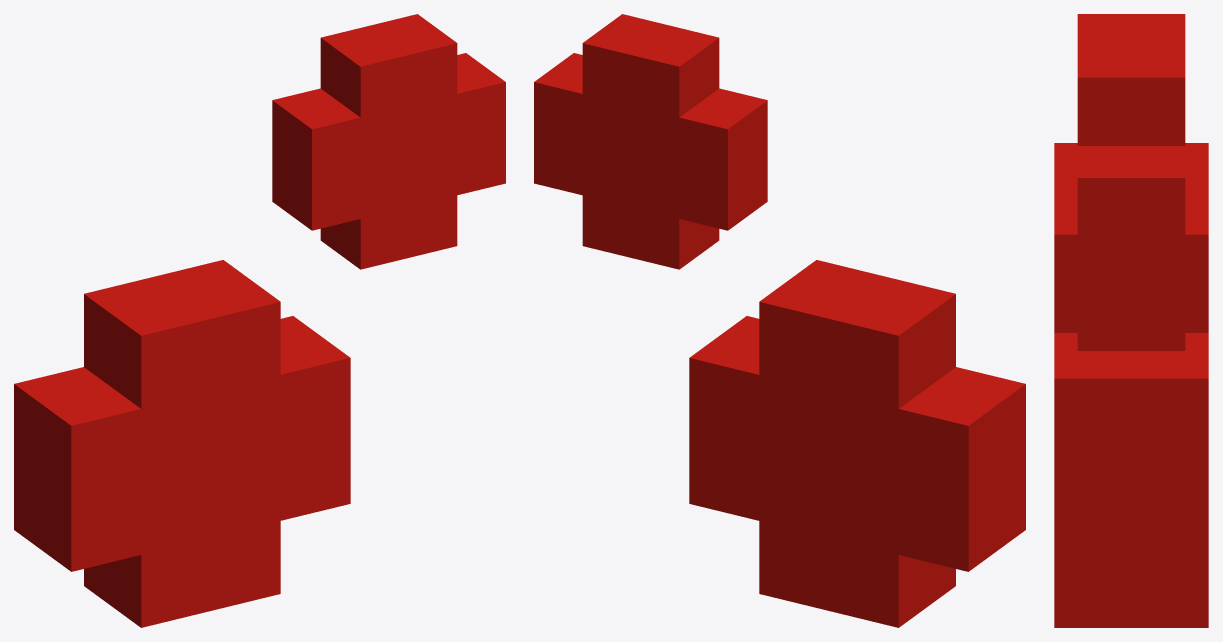
Rendered from health.glb.
3 renders of one model, left to right at view 1: azimuth 30°, elevation 25°; view 2: azimuth 150°, elevation 25°; view 3: azimuth 270°, elevation 25°, orthographic. The views are drawn at different scales.
Visible parts, largest first — view 1: HealthUp.001_Material02_0.001; view 2: HealthUp.001_Material02_0.001; view 3: HealthUp.001_Material02_0.001.
Boxes of the visible parts, x1,y1,x2,y2 form: HealthUp.001_Material02_0.001: [14, 14, 505, 627]; HealthUp.001_Material02_0.001: [534, 14, 1025, 627]; HealthUp.001_Material02_0.001: [1054, 14, 1208, 627].
Size of the model in its own units: 1.03 by 1.11 by 0.2307.
